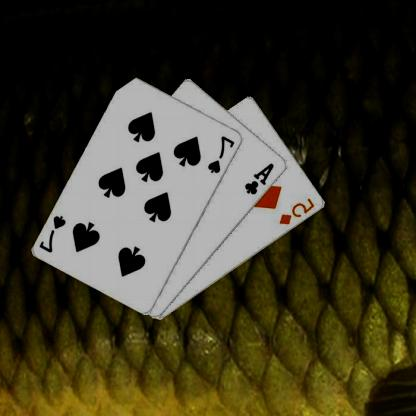5D: (279, 196, 318, 226)
7S: (38, 213, 70, 254), (207, 133, 238, 175)
AC: (244, 160, 277, 196)
